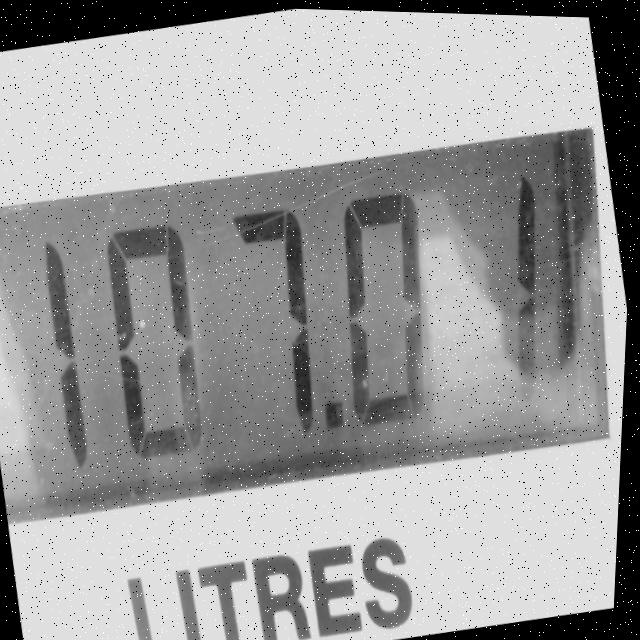.: (330, 399, 348, 426)
0: (322, 188, 454, 431), (95, 220, 225, 465)
1: (25, 231, 110, 483), (490, 172, 573, 404)
7: (227, 200, 337, 444)
